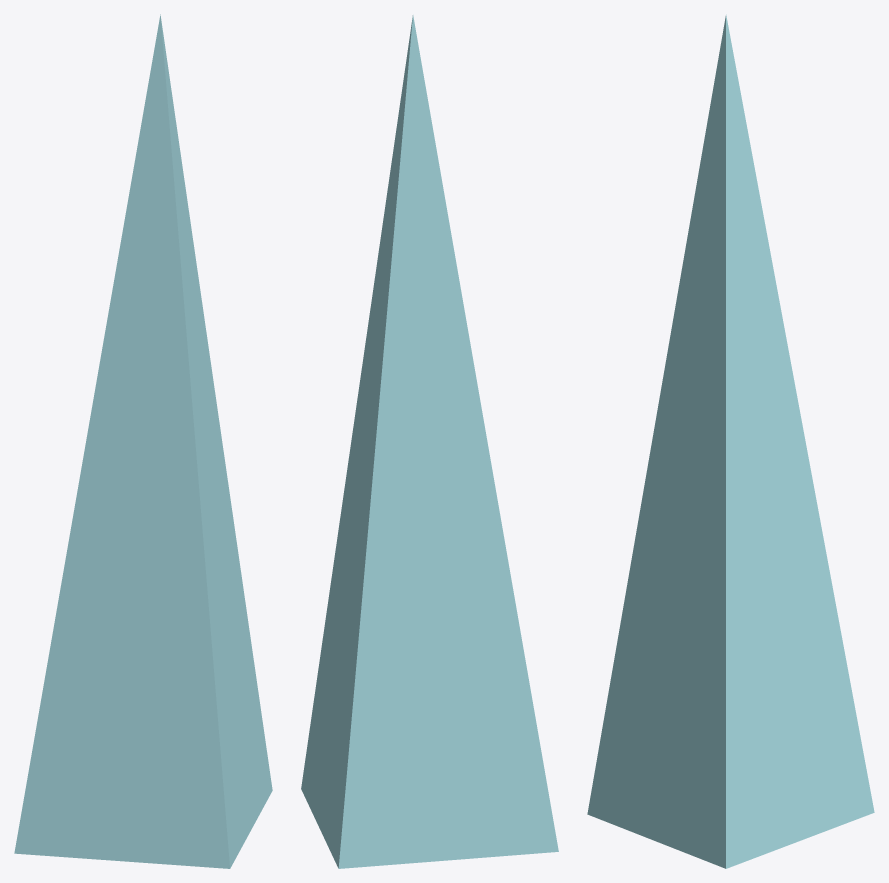
File: gelo3.fbx
The picture shows the model from 3 angles, left to right: view 1: azimuth 30°, elevation 25°; view 2: azimuth 150°, elevation 25°; view 3: azimuth 270°, elevation 25°; orthographic projection.
Parts seen in each view (by area): view 1: Plane.001; view 2: Plane.001; view 3: Plane.001.
Part boxes in pixels (left/top/right/bottom): Plane.001: left=14, top=14, right=272, bottom=868; Plane.001: left=301, top=15, right=558, bottom=868; Plane.001: left=587, top=14, right=874, bottom=868.
Bounding box in the file's own units: 248 × 738 × 240.
